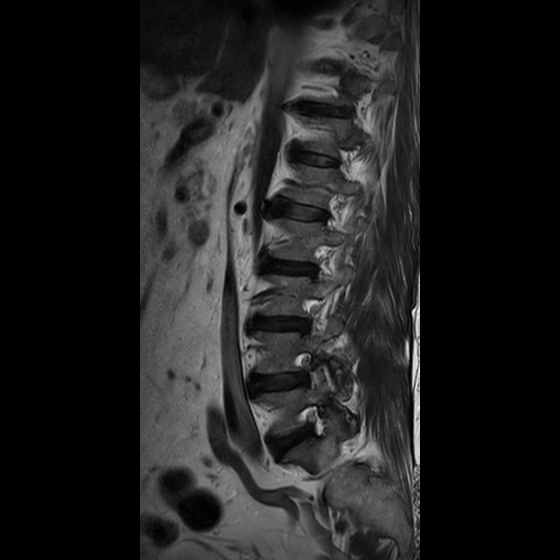RFS1: (290, 400, 332, 447)
RFS2: (284, 347, 322, 400)
